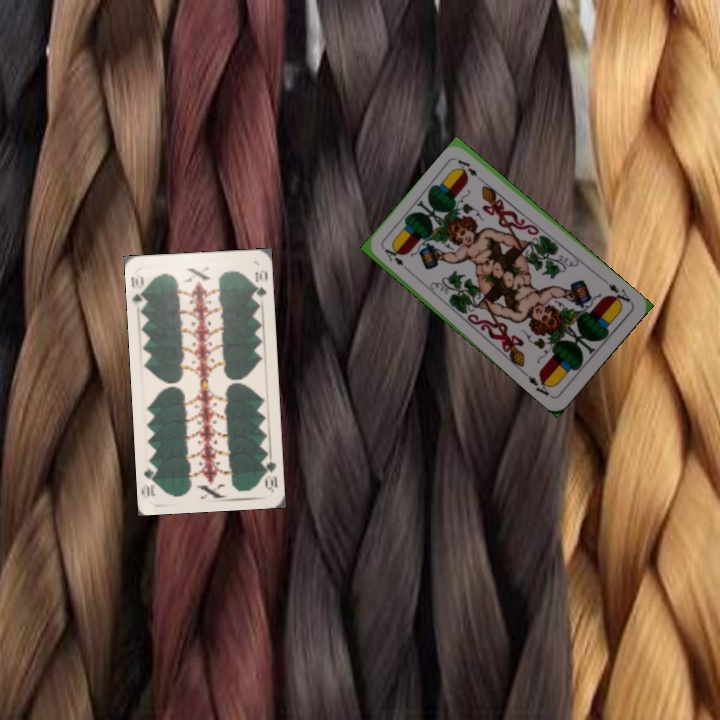EA: (600, 276, 634, 308), (380, 244, 406, 269)
G10: (259, 451, 280, 492), (128, 272, 149, 310)
